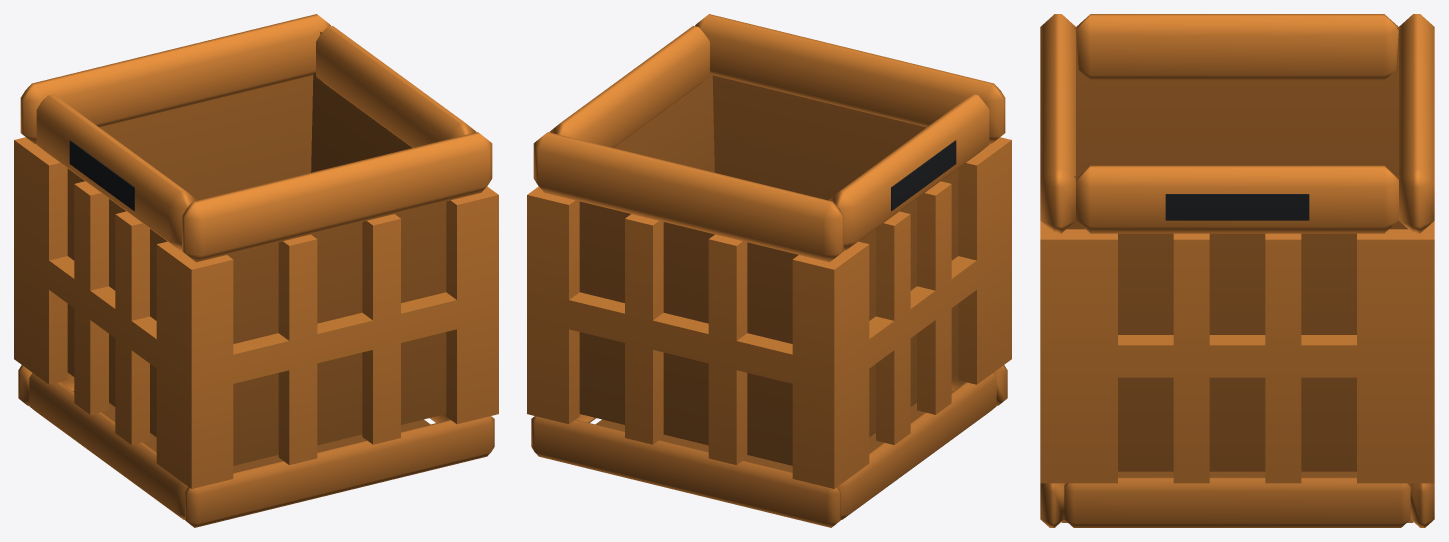
Rendered from SM_Crate_Plastic_01.glb.
The picture shows the model from 3 angles, left to right: view 1: azimuth 30°, elevation 25°; view 2: azimuth 150°, elevation 25°; view 3: azimuth 270°, elevation 25°; orthographic projection. The views are drawn at different scales.
Parts seen in each view (by area): view 1: SM_Crate_Plastic_01; view 2: SM_Crate_Plastic_01; view 3: SM_Crate_Plastic_01.
Boxes of the visible parts, left/top/right/bottom form: SM_Crate_Plastic_01: left=14, top=14, right=498, bottom=527; SM_Crate_Plastic_01: left=527, top=14, right=1011, bottom=527; SM_Crate_Plastic_01: left=1040, top=14, right=1434, bottom=527.
Bounding box in the file's own units: 0.332 × 0.33 × 0.33.
Materials: 1 (1 with a texture image).
